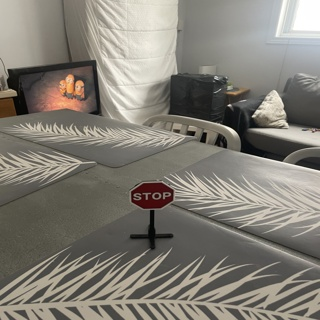sign_stop: (127, 178, 173, 210)
